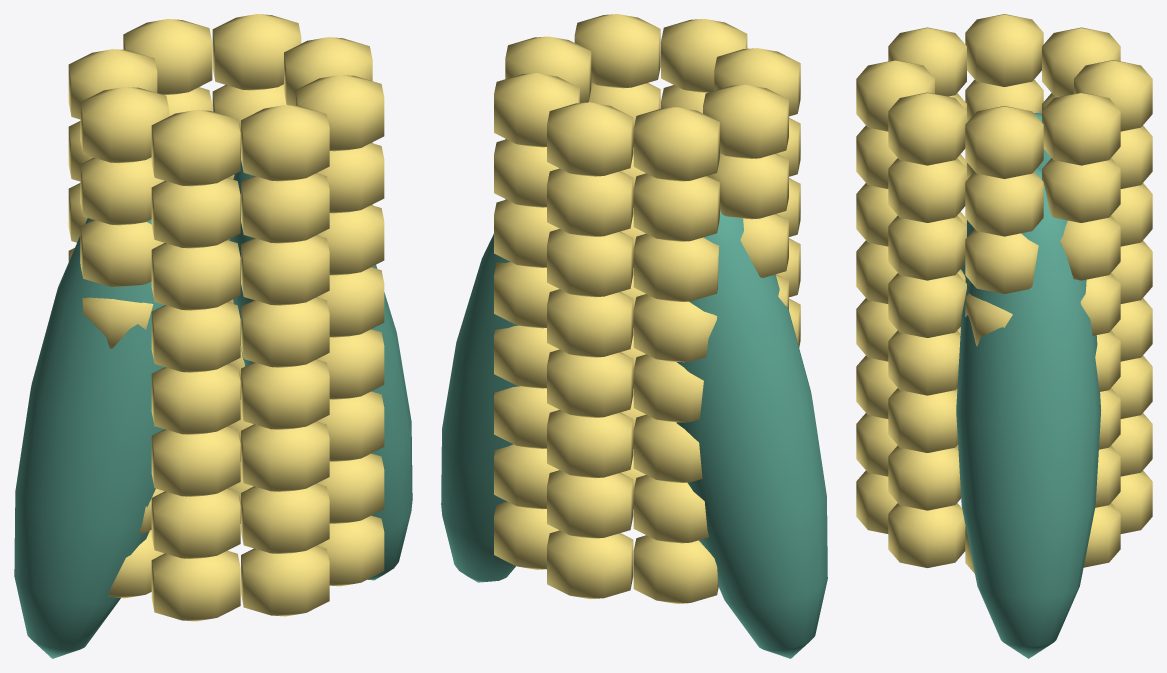
The model's file is corn.glb.
3 views of the same model, side by side, from view 1: azimuth 30°, elevation 25°; view 2: azimuth 150°, elevation 25°; view 3: azimuth 270°, elevation 25° (orthographic). The views are drawn at different scales.
Parts seen in each view (by area): view 1: corn; view 2: corn; view 3: corn.
Boxes of the visible parts, x1,y1,x2,y2 form: corn: [14, 14, 412, 658]; corn: [441, 14, 827, 658]; corn: [856, 14, 1152, 658].
Bounding box in the file's own units: 0.6796 × 0.9591 × 0.4899.
